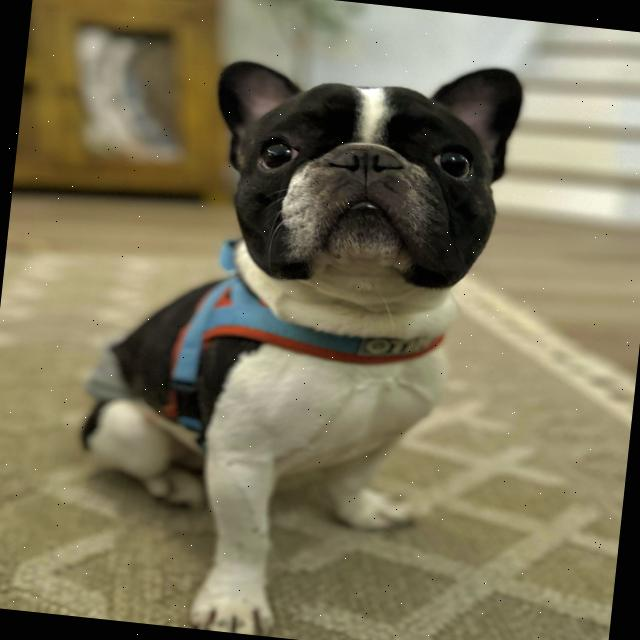french_bulldog_dog: (182, 24, 540, 326)
